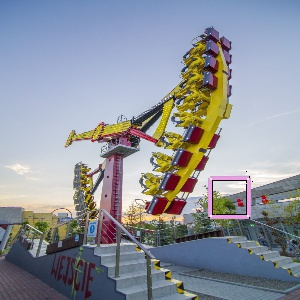square: (207, 175, 252, 221)
